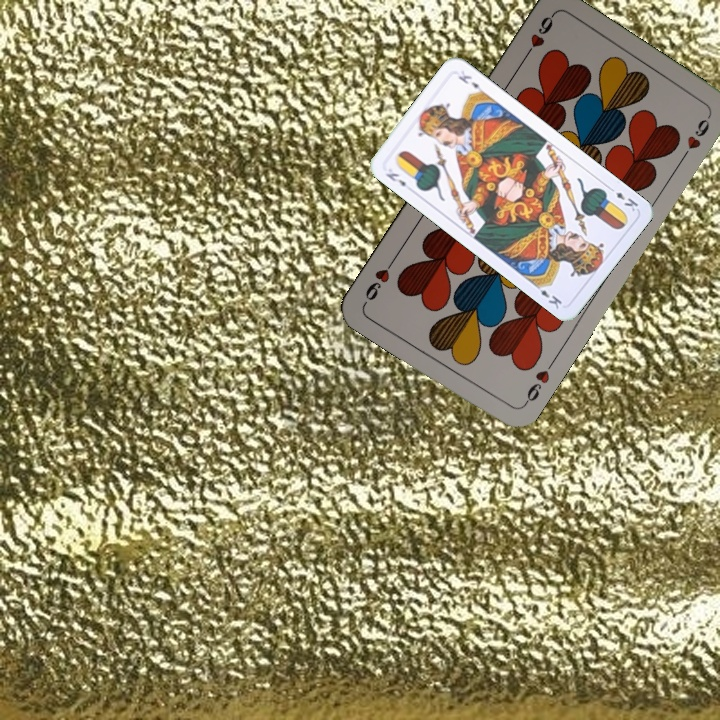EK: (604, 182, 641, 214), (382, 169, 409, 189)
H9: (518, 11, 557, 63), (519, 357, 557, 409)
